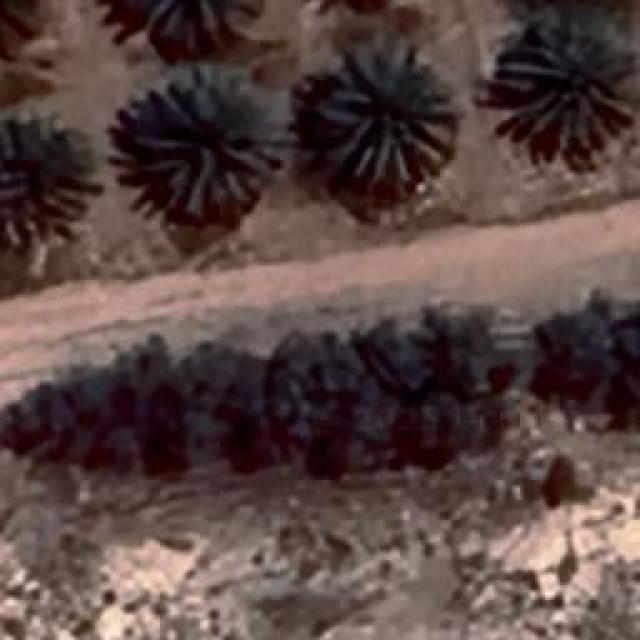PalmTree: (122, 65, 290, 220), (310, 38, 458, 192), (492, 20, 632, 155), (0, 117, 98, 250), (569, 308, 640, 419), (20, 29, 106, 58), (106, 24, 195, 48)
